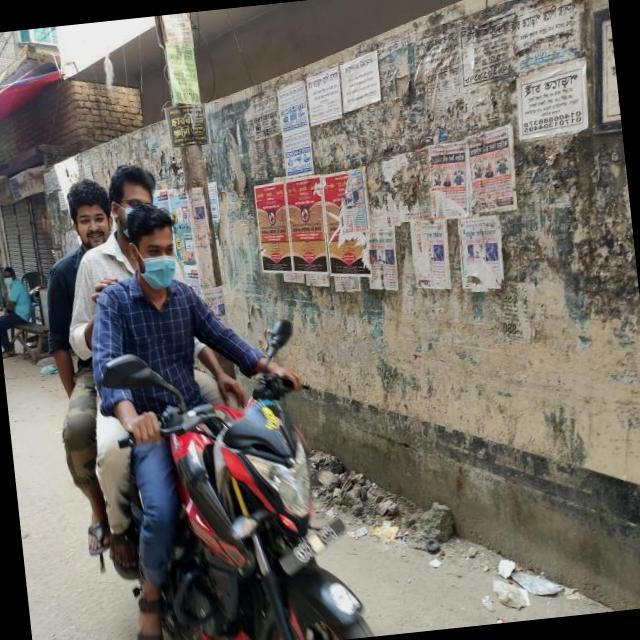motorcycle: (61, 365, 388, 640)
person: (70, 193, 220, 518), (66, 158, 184, 481), (21, 160, 138, 464)
